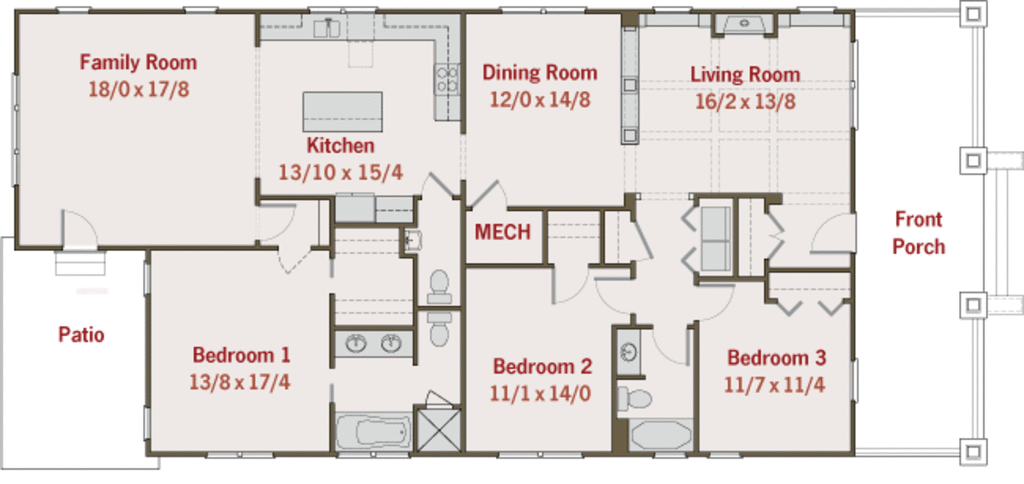door: (55, 207, 108, 256), (690, 275, 734, 325), (801, 214, 854, 253), (653, 325, 699, 368), (591, 272, 635, 316), (252, 203, 300, 243), (470, 177, 518, 215), (547, 262, 592, 302), (415, 167, 457, 204)
kitchen_bar: (288, 82, 403, 147)
large_sink: (421, 312, 462, 353), (614, 378, 658, 415), (421, 262, 457, 307)
small_sink: (337, 325, 415, 363), (618, 330, 645, 372)
small_sofa: (693, 205, 739, 273)
tub: (336, 406, 413, 450), (625, 418, 694, 457)
twin_sink: (309, 12, 348, 40)
window: (9, 71, 26, 185), (496, 1, 592, 18), (851, 42, 861, 135), (501, 451, 579, 462), (179, 2, 222, 17), (650, 1, 699, 13), (49, 6, 99, 16), (798, 5, 841, 12)
